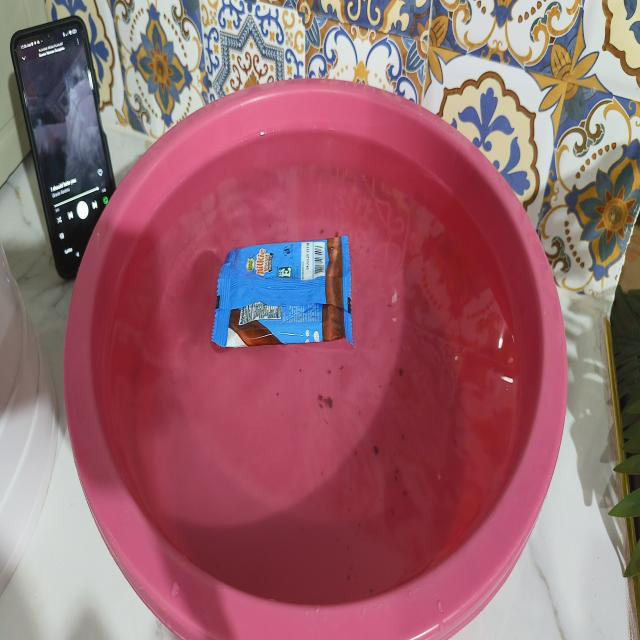Plastic Wrapper: (212, 236, 353, 347)
